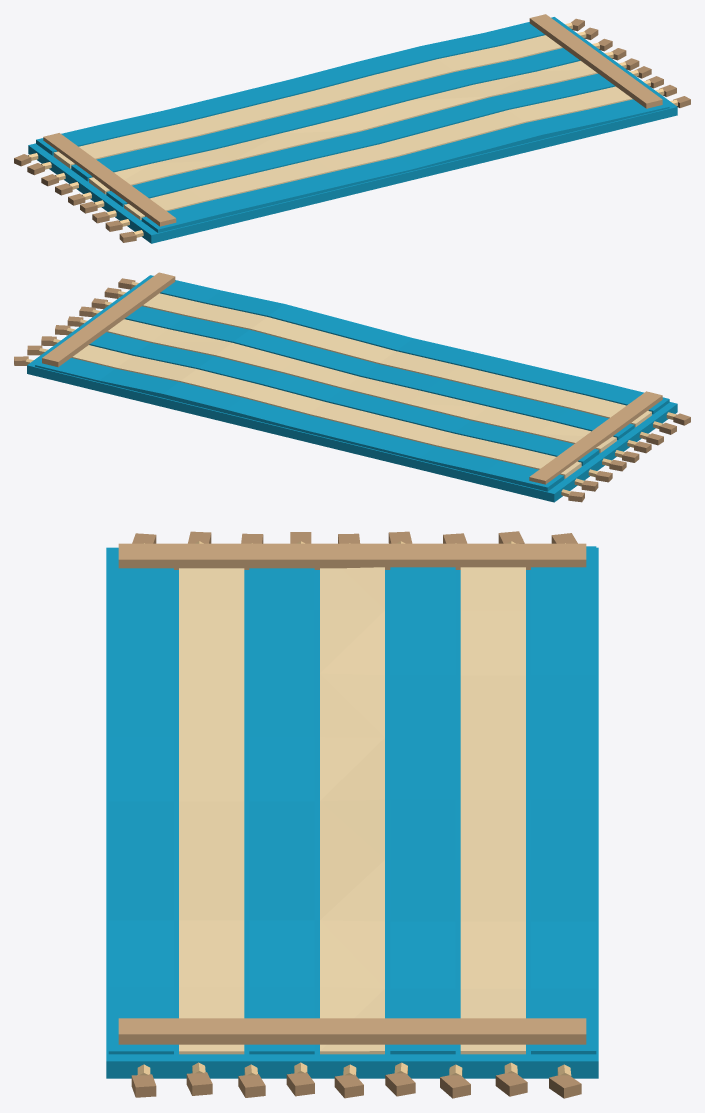
File: BeachTowelStriped.glb
3 renders of one model, top to bottom at view 1: azimuth 30°, elevation 25°; view 2: azimuth 150°, elevation 25°; view 3: azimuth 270°, elevation 25°, orthographic. The views are drawn at different scales.
Visible parts, largest first — view 1: BeachTowelStriped_StripeA01, BeachTowelStriped_StripeA04, BeachTowelStriped_StripeA03, BeachTowelStriped_StripeA02, BeachTowelStriped_StripeB03, BeachTowelStriped_StripeB01, BeachTowelStriped_StripeB02, BeachTowelStriped_Base, BeachTowelStriped_SeamRight, BeachTowelStriped_SeamLeft; view 2: BeachTowelStriped_StripeA04, BeachTowelStriped_StripeB02, BeachTowelStriped_StripeB03, BeachTowelStriped_StripeA03, BeachTowelStriped_StripeA01, BeachTowelStriped_StripeA02, BeachTowelStriped_StripeB01, BeachTowelStriped_Base, BeachTowelStriped_SeamRight, BeachTowelStriped_SeamLeft; view 3: BeachTowelStriped_StripeA04, BeachTowelStriped_StripeA01, BeachTowelStriped_StripeA03, BeachTowelStriped_StripeB03, BeachTowelStriped_StripeA02, BeachTowelStriped_StripeB01, BeachTowelStriped_StripeB02, BeachTowelStriped_Base, BeachTowelStriped_SeamRight, BeachTowelStriped_SeamLeft.
Boxes of the visible parts, x1,y1,x2,y2 form: BeachTowelStriped_StripeA01: (141,99,669,232); BeachTowelStriped_StripeA04: (36,22,544,155); BeachTowelStriped_StripeA03: (71,48,580,181); BeachTowelStriped_StripeA02: (106,73,615,207); BeachTowelStriped_StripeB03: (53,35,562,168); BeachTowelStriped_StripeB01: (124,86,632,219); BeachTowelStriped_StripeB02: (89,61,597,194); BeachTowelStriped_Base: (28,17,677,243); BeachTowelStriped_SeamRight: (529,14,662,108); BeachTowelStriped_SeamLeft: (43,133,176,226); BeachTowelStriped_StripeA04: (35,358,563,491); BeachTowelStriped_StripeB02: (107,319,616,452); BeachTowelStriped_StripeB03: (71,345,581,478); BeachTowelStriped_StripeA03: (89,332,599,465); BeachTowelStriped_StripeA01: (160,280,669,414); BeachTowelStriped_StripeA02: (124,306,634,439); BeachTowelStriped_StripeB01: (142,293,651,427); BeachTowelStriped_Base: (27,275,677,502); BeachTowelStriped_SeamRight: (42,272,175,367); BeachTowelStriped_SeamLeft: (529,391,662,484); BeachTowelStriped_StripeA04: (531,546,596,1054); BeachTowelStriped_StripeA01: (108,548,173,1054); BeachTowelStriped_StripeA03: (390,567,455,1054); BeachTowelStriped_StripeB03: (460,567,525,1054); BeachTowelStriped_StripeA02: (249,568,314,1054); BeachTowelStriped_StripeB01: (179,568,244,1054); BeachTowelStriped_StripeB02: (320,567,384,1054); BeachTowelStriped_Base: (106,547,598,1078); BeachTowelStriped_SeamRight: (118,1018,586,1044); BeachTowelStriped_SeamLeft: (118,543,586,569).
Bounding box in the file's own units: 6.27 × 0.1725 × 2.35.
